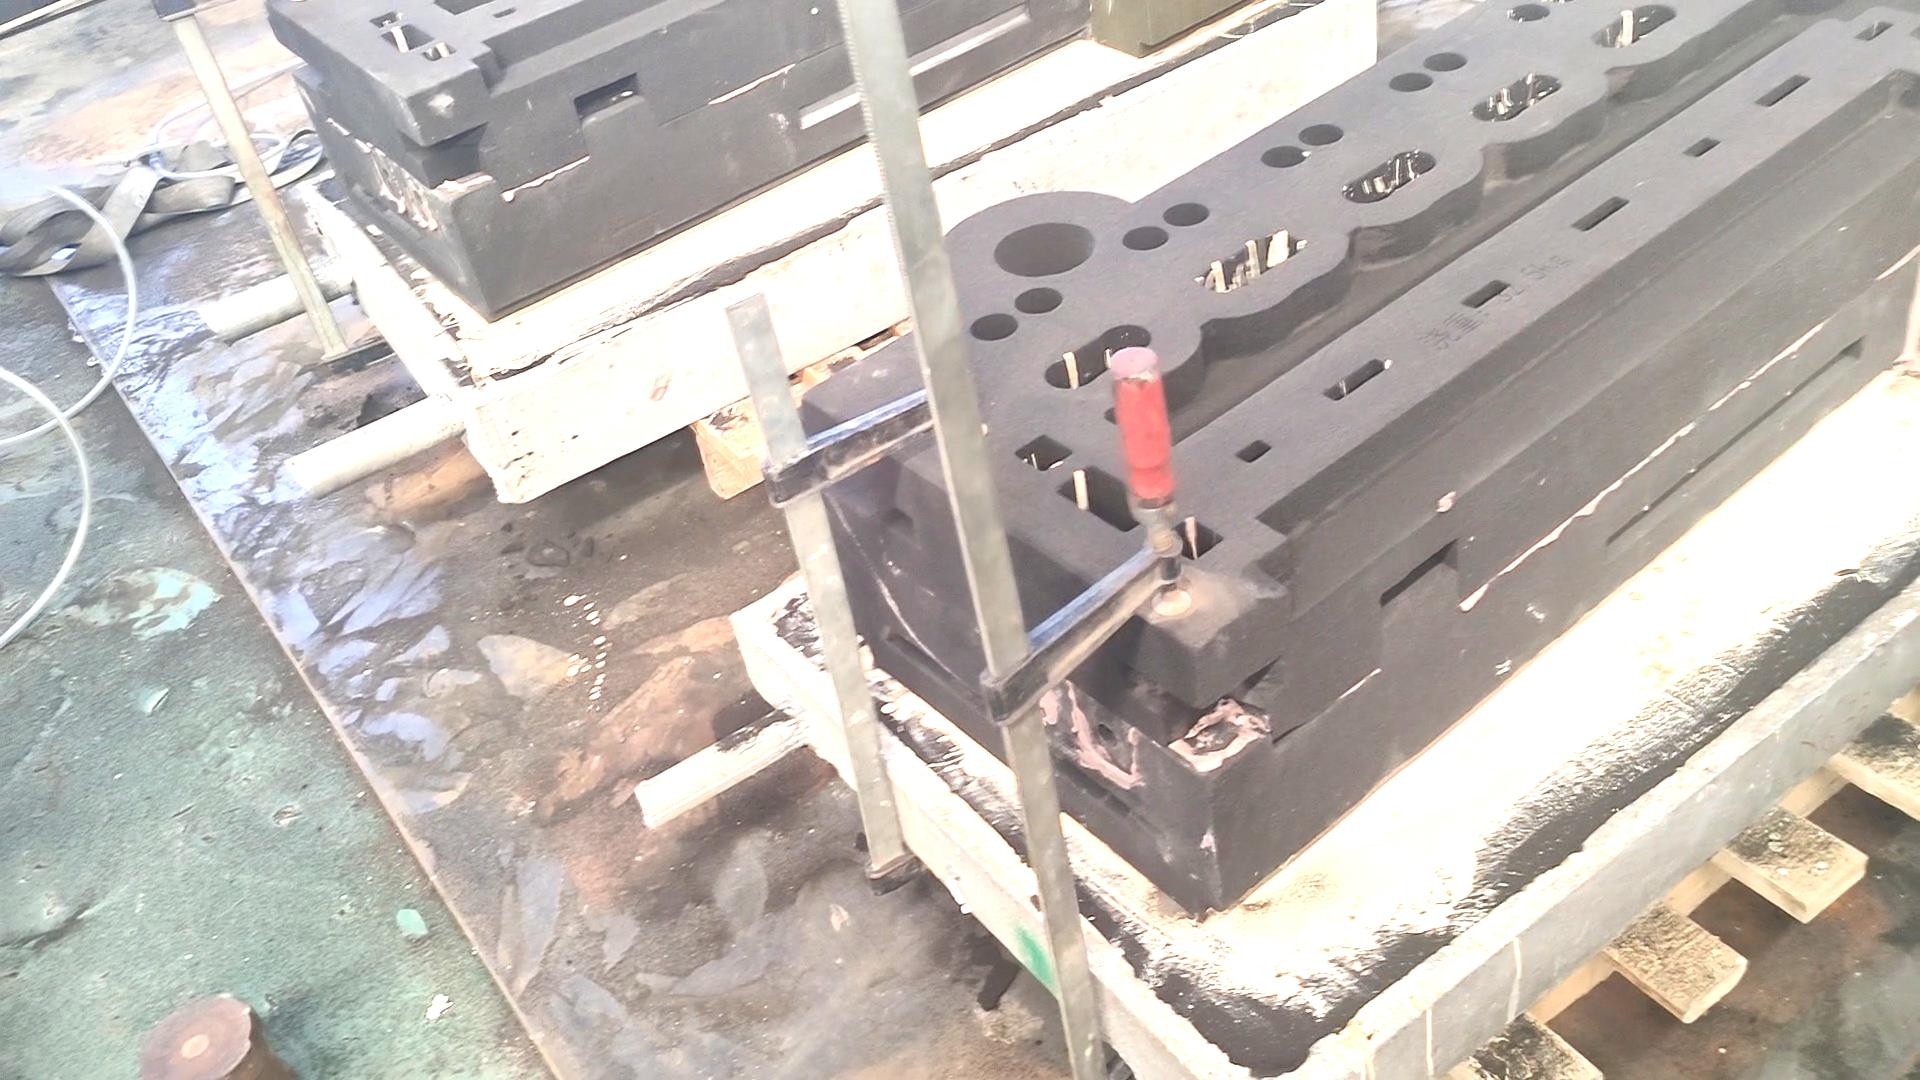pouring hole: (990, 222, 1098, 280)
